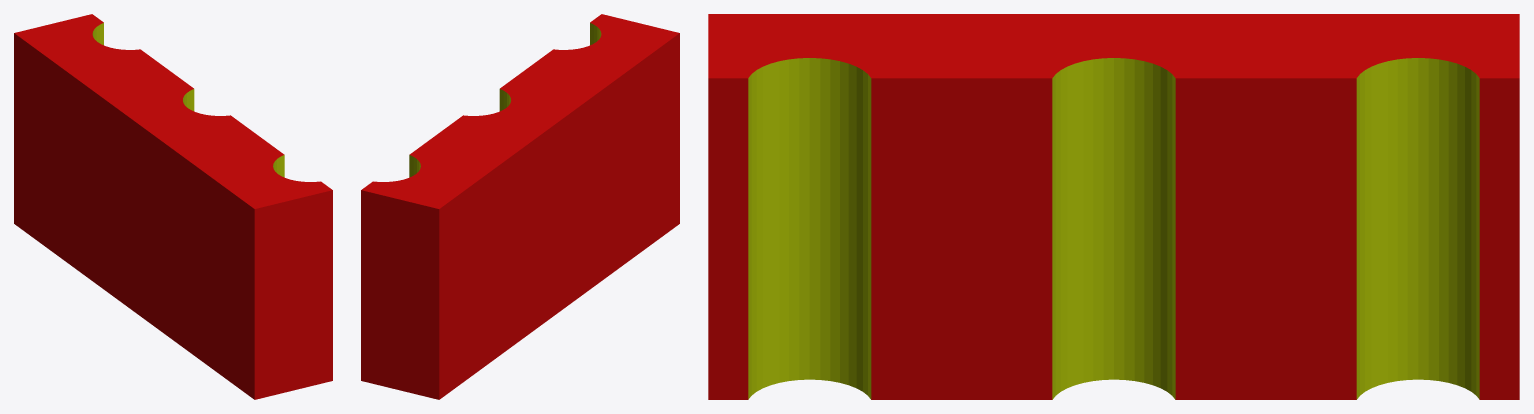
Rendered from bolt_stand.obj.
3 views of the same model, side by side, from view 1: azimuth 30°, elevation 25°; view 2: azimuth 150°, elevation 25°; view 3: azimuth 270°, elevation 25° (orthographic). The views are drawn at different scales.
Visible parts, largest first — view 1: bolt_stand; view 2: bolt_stand; view 3: bolt_stand.
Boxes of the visible parts, bbox=[...] form: bolt_stand: bbox=[14, 14, 332, 399]; bolt_stand: bbox=[361, 14, 679, 399]; bolt_stand: bbox=[708, 14, 1519, 399].
Size of the model in its own units: 0.03 by 0.07 by 0.16.
